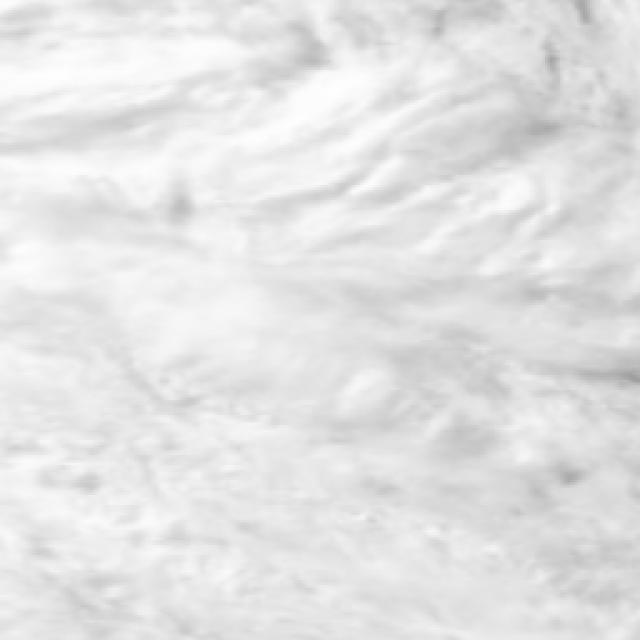CB: (0, 0, 245, 269), (440, 0, 640, 262), (0, 267, 252, 466), (244, 0, 437, 258), (0, 452, 258, 640), (232, 440, 467, 640), (430, 242, 640, 454), (240, 255, 443, 463), (442, 437, 637, 640)
